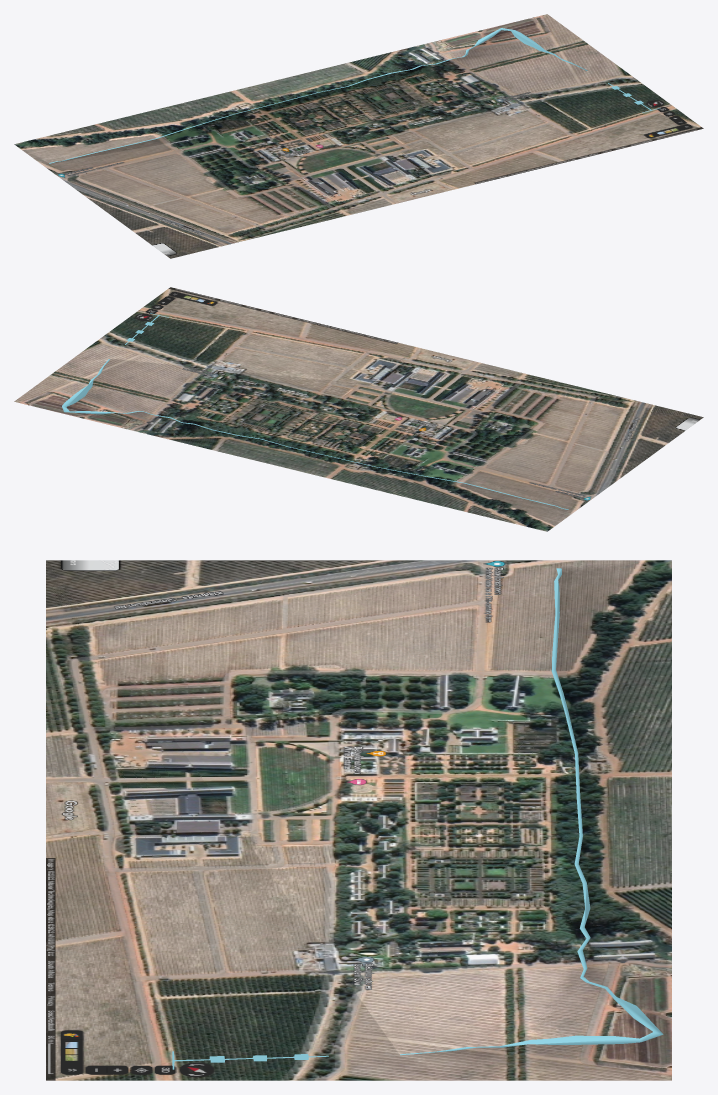
File: Babylonstoren 3D Map.glb
3 renders of one model, top to bottom at view 1: azimuth 30°, elevation 25°; view 2: azimuth 150°, elevation 25°; view 3: azimuth 270°, elevation 25°, orthographic. The views are drawn at different scales.
Visible parts, largest first — view 1: Ground.001; view 2: Ground.001; view 3: Ground.001.
Boxes of the visible parts, x1,y1,x2,y2 form: Ground.001: (14,14,703,258); Ground.001: (14,287,703,531); Ground.001: (46,560,671,1080).
Size of the model in its own units: 20649 by 19.91 by 10496.
2 materials, 1 textured.
